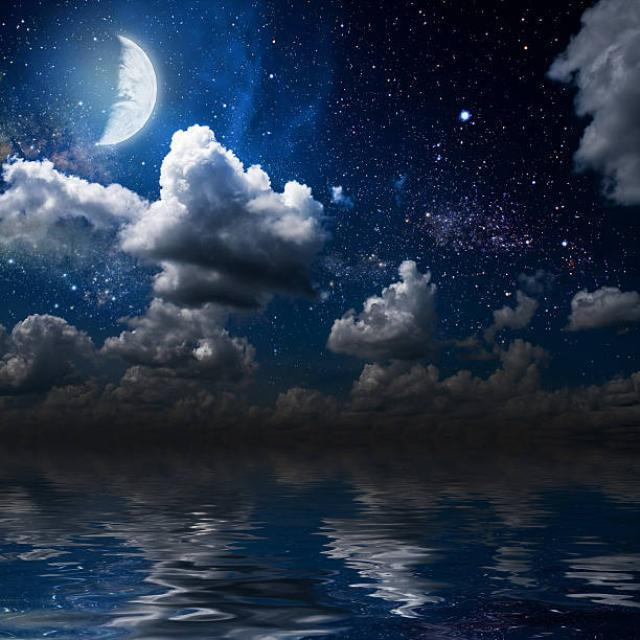moon: (38, 28, 166, 152)
